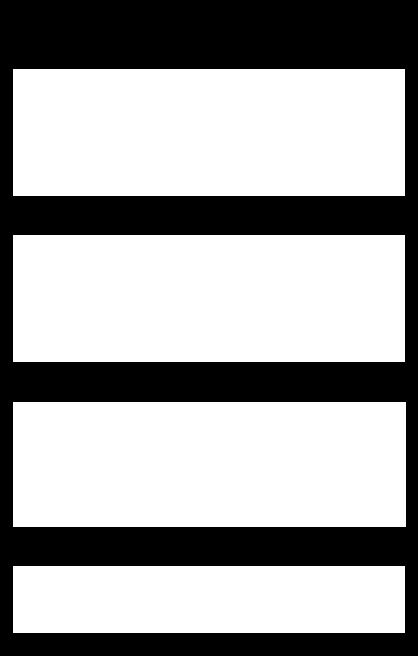table: (13, 235, 404, 361), (13, 69, 404, 195), (13, 402, 405, 526), (13, 566, 404, 632)
